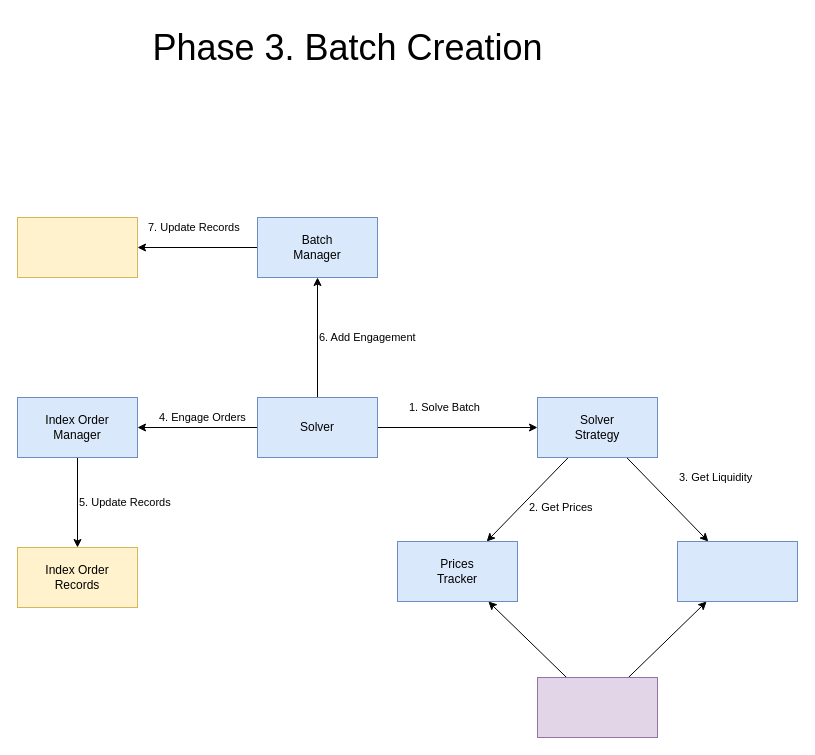
This 815x755 diagram has some shape labels left out. Here are the shapes that lost their labels. From the top down, the centre of each, then its label:
At pixel 77 247: "Batch Position Records".
At pixel 737 571: "Order Book Manager".
At pixel 597 707: "Market Data Feed".
